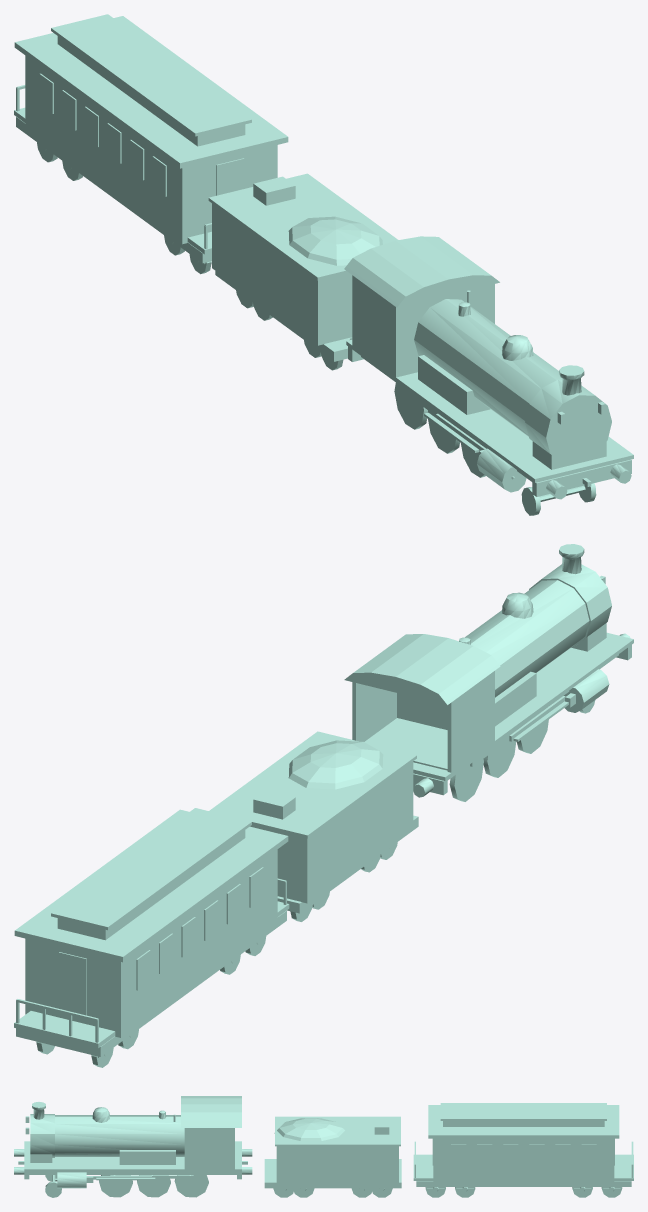
Rendered from iron_horse.glb.
3 views of the same model, one above another, from view 1: azimuth 30°, elevation 25°; view 2: azimuth 150°, elevation 25°; view 3: azimuth 270°, elevation 25° (orthographic). The views are drawn at different scales.
Parts seen in each view (by area): view 1: Engine, Coach, Tender; view 2: Coach, Engine, Tender; view 3: Coach, Engine, Tender.
Boxes of the visible parts, x1=… form: Engine: x1=344, y1=236, x2=633, y2=515; Coach: x1=14, y1=14, x2=288, y2=274; Tender: x1=208, y1=173, x2=398, y2=370; Coach: x1=14, y1=808, x2=289, y2=1067; Engine: x1=344, y1=544, x2=633, y2=801; Tender: x1=209, y1=731, x2=418, y2=921; Coach: x1=413, y1=1103, x2=633, y2=1197; Engine: x1=14, y1=1096, x2=252, y2=1197; Tender: x1=264, y1=1116, x2=401, y2=1197.
Bounding box in the file's own units: 2.95 × 3.85 × 25.34.
